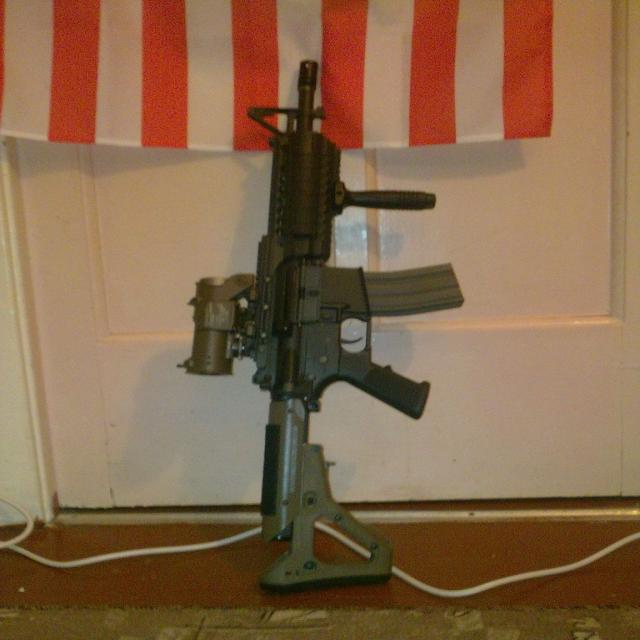firearm: (176, 61, 466, 596)
